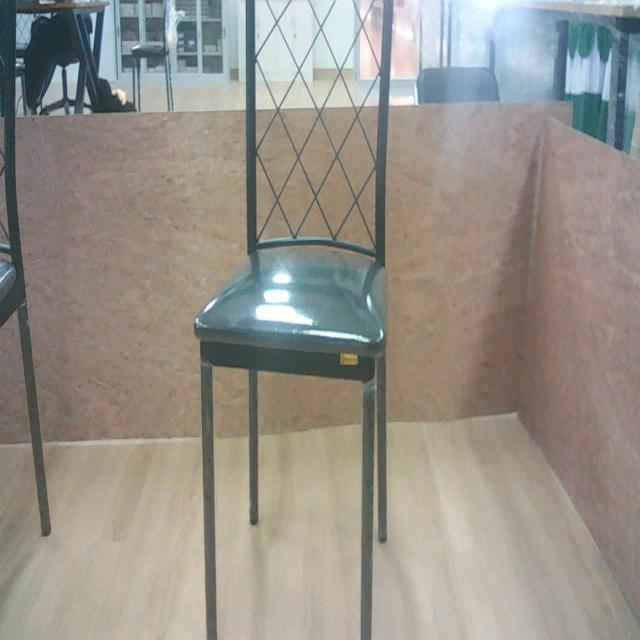emtpy: (190, 4, 398, 640)
